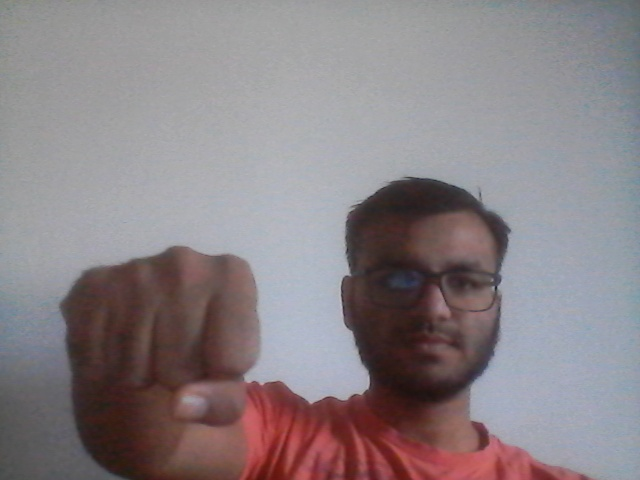Thanks: (61, 247, 278, 422)
